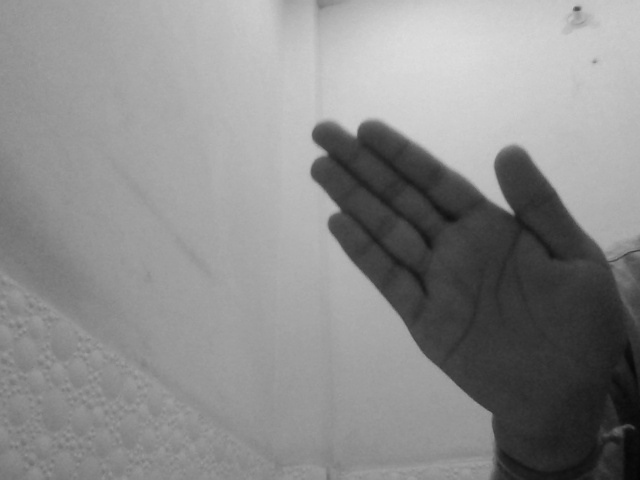Hello: (301, 108, 627, 452)
